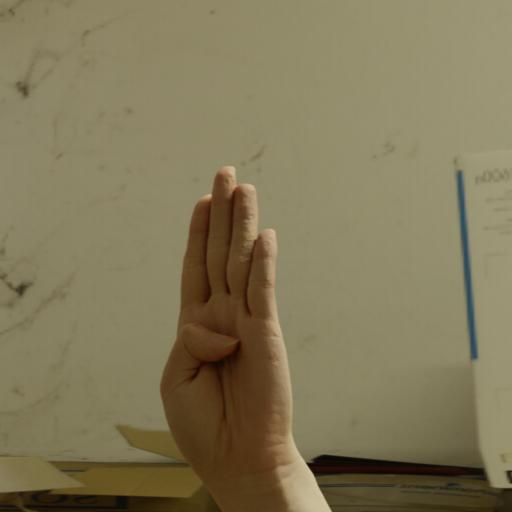B: (129, 152, 313, 472)
